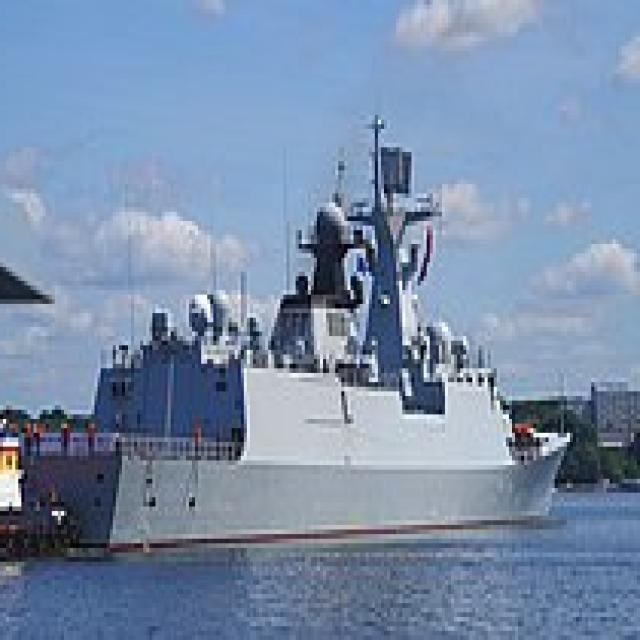Warship: (18, 102, 579, 552)
